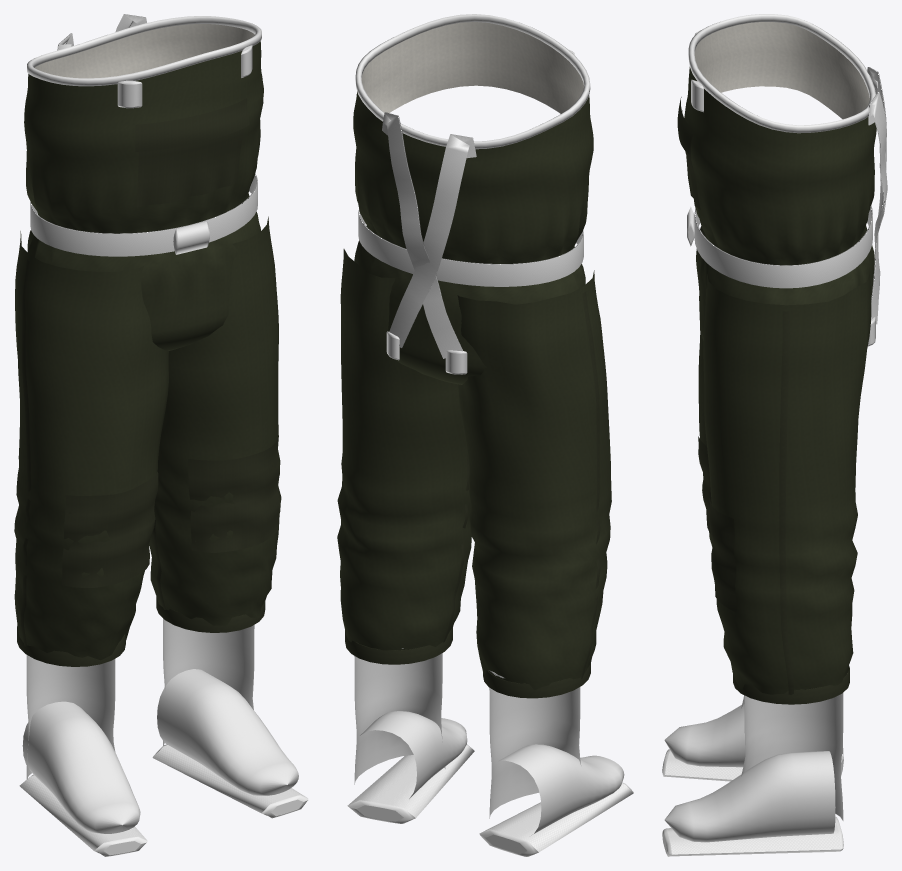
Rendered from wear_waders.lod1.glb.
The picture shows the model from 3 angles, left to right: view 1: azimuth 30°, elevation 25°; view 2: azimuth 150°, elevation 25°; view 3: azimuth 270°, elevation 25°; orthographic projection.
Parts seen in each view (by area): view 1: Tool; view 2: Tool; view 3: Tool.
Boxes of the visible parts, left/top/right/bottom form: Tool: left=14, top=14, right=308, bottom=856; Tool: left=337, top=14, right=633, bottom=856; Tool: left=662, top=14, right=887, bottom=856.
Bounding box in the file's own units: 0.4423 × 1.31 × 0.3496.
Materials: 7 (7 with a texture image).
